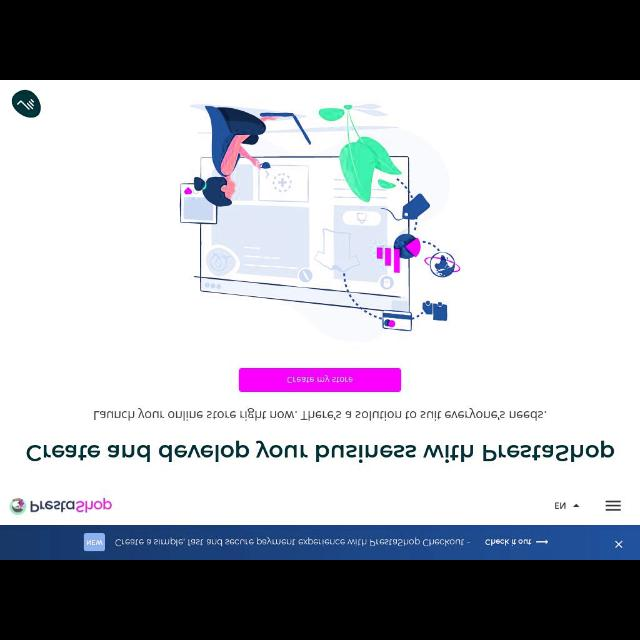button: (10, 90, 44, 120)
icon: (16, 97, 38, 111), (604, 499, 624, 513), (571, 502, 581, 512)
iframe: (3, 526, 639, 558)
image: (168, 95, 462, 339), (9, 498, 115, 518)
text: (24, 439, 616, 467), (92, 404, 548, 424), (284, 372, 356, 386), (553, 500, 565, 512)
textbutton: (240, 367, 402, 393)
